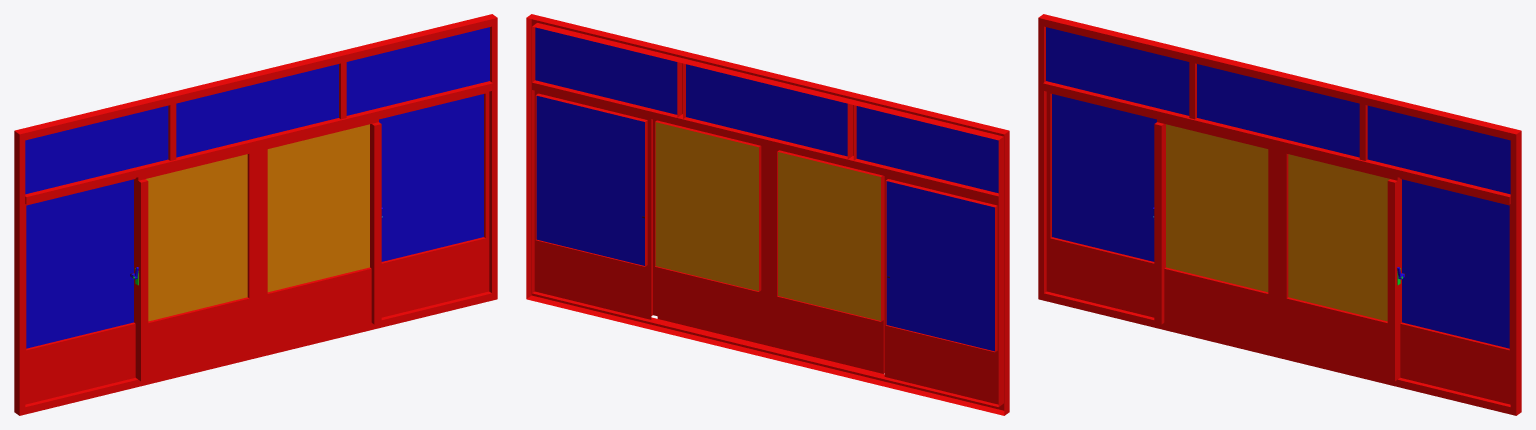
The model's file is inside_bigdoor.FBX.
3 renders of one model, left to right at view 1: azimuth 30°, elevation 25°; view 2: azimuth 150°, elevation 25°; view 3: azimuth 330°, elevation 25°, orthographic.
Parts seen in each view (by area): view 1: door, windows; view 2: door, windows; view 3: door, windows.
Part boxes in pixels (x1=…): door: x1=25, y1=27, x2=489, y2=348; windows: x1=14, y1=14, x2=497, y2=415; door: x1=535, y1=27, x2=998, y2=351; windows: x1=526, y1=14, x2=1009, y2=415; door: x1=1046, y1=27, x2=1510, y2=348; windows: x1=1038, y1=14, x2=1521, y2=415.
Bounding box in the file's own units: 5.24 × 0.15 × 2.95.
